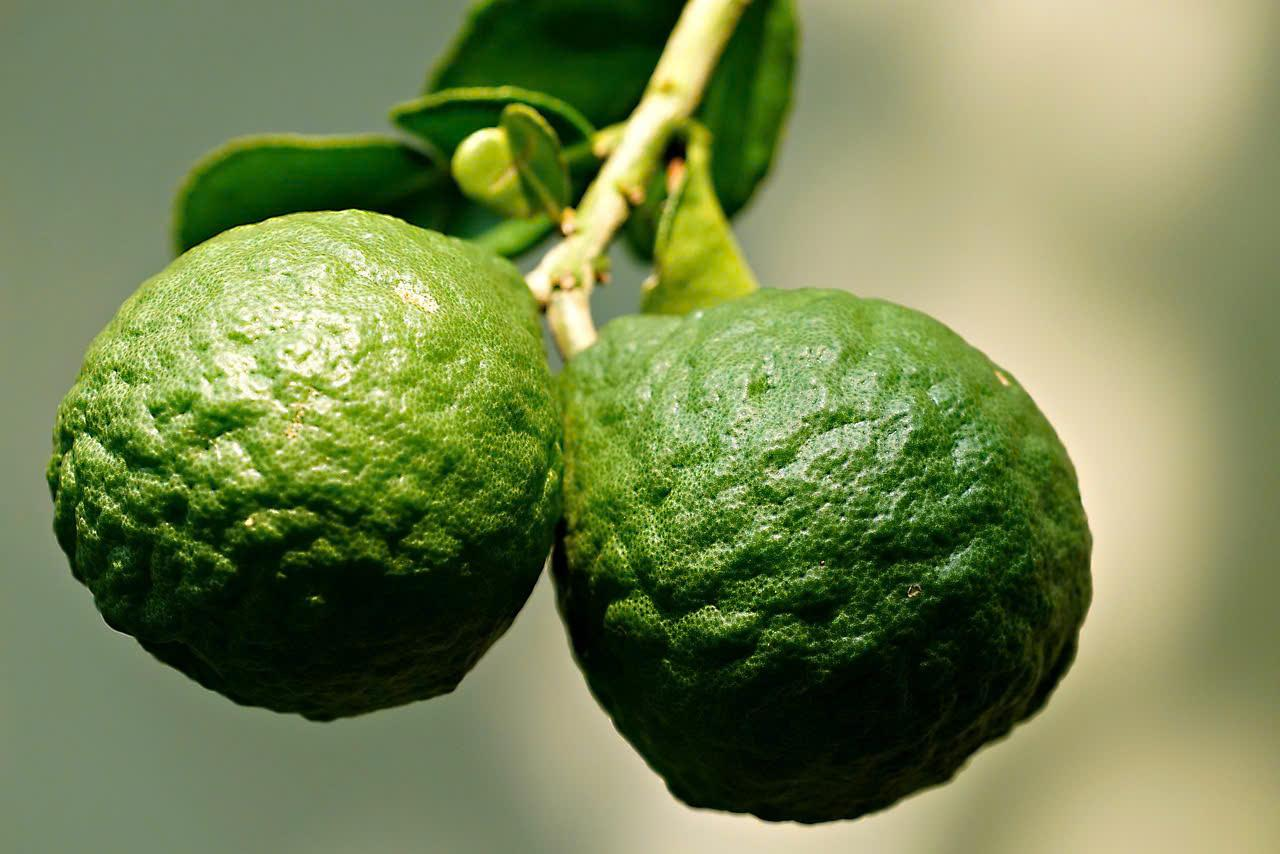lime: (550, 280, 1104, 827), (30, 193, 563, 749)
